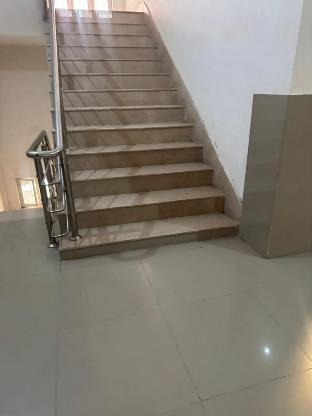stair: (48, 0, 234, 272)
